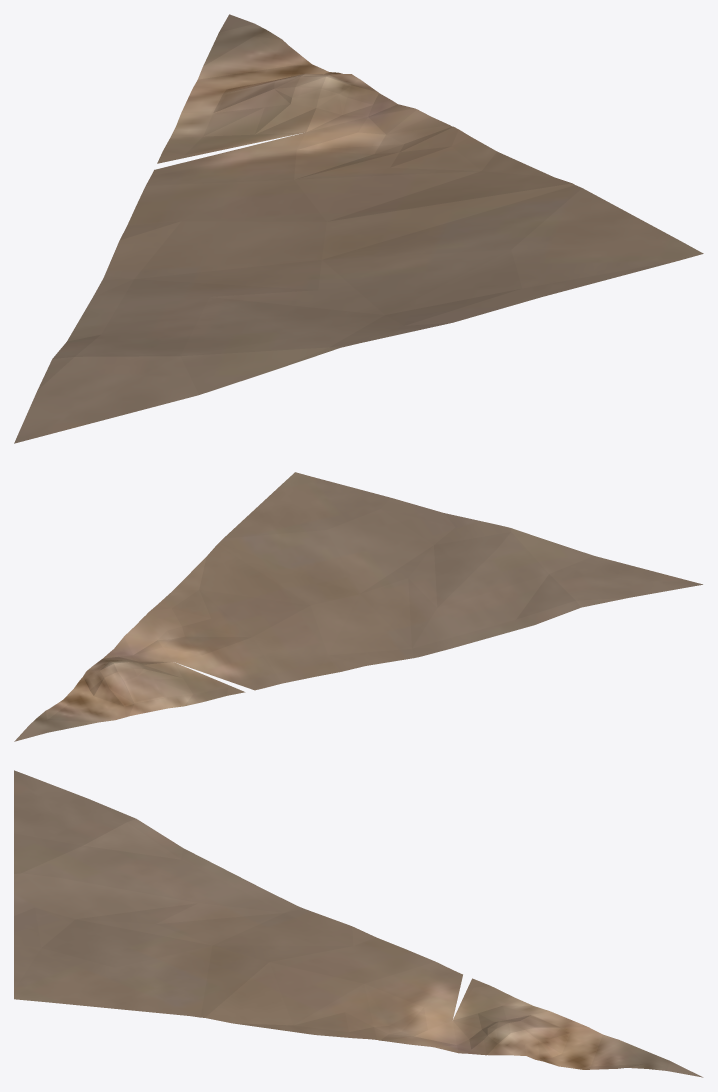
3 views of the same model, one above another, from view 1: azimuth 30°, elevation 25°; view 2: azimuth 150°, elevation 25°; view 3: azimuth 270°, elevation 25° (orthographic). The views are drawn at different scales.
Bounding box in the file's own units: 1.71 × 0.2551 × 2.03.
Materials: 1 (1 with a texture image).
